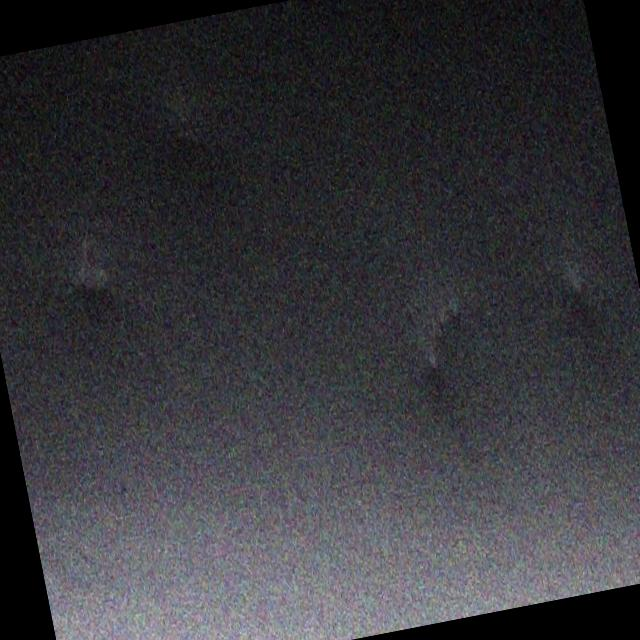dent: (49, 178, 165, 342), (405, 269, 486, 380), (523, 232, 614, 322), (164, 64, 224, 157)
